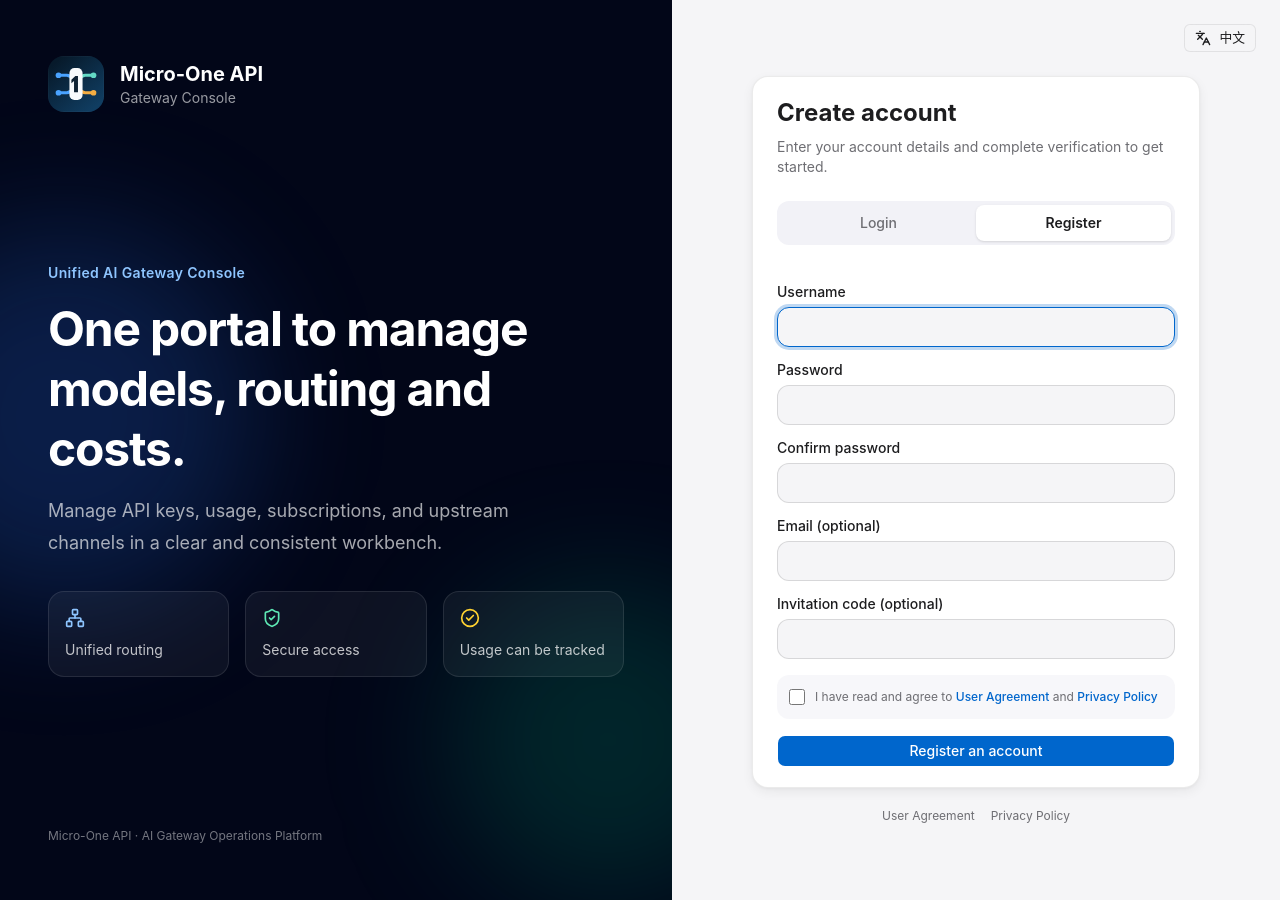
LoginPage › translates the registration legal consent and validation in English
Expected: the checkbox labelled "I have read and agree to User Agreement and Privacy Policy" is not checked, [789, 689, 805, 705]
Expected: the number of links "User Agreement" is 2, [956, 689, 1049, 704]; [882, 808, 975, 824]
In the field labelled "Username": [976, 327] box [777, 307, 1175, 347], type "alice"
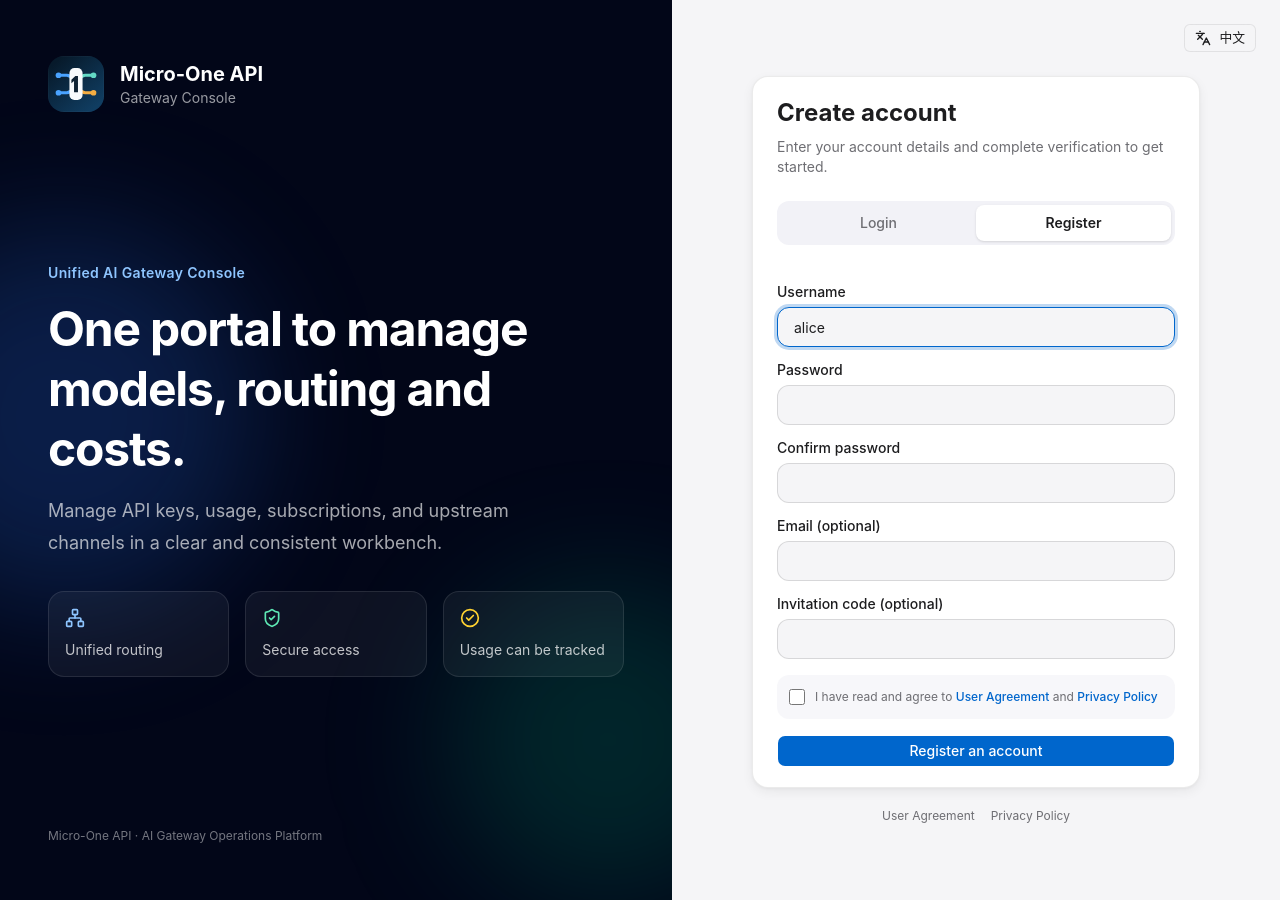
In the password field labelled "Password": [976, 405] box [777, 385, 1175, 425], type "password-1"
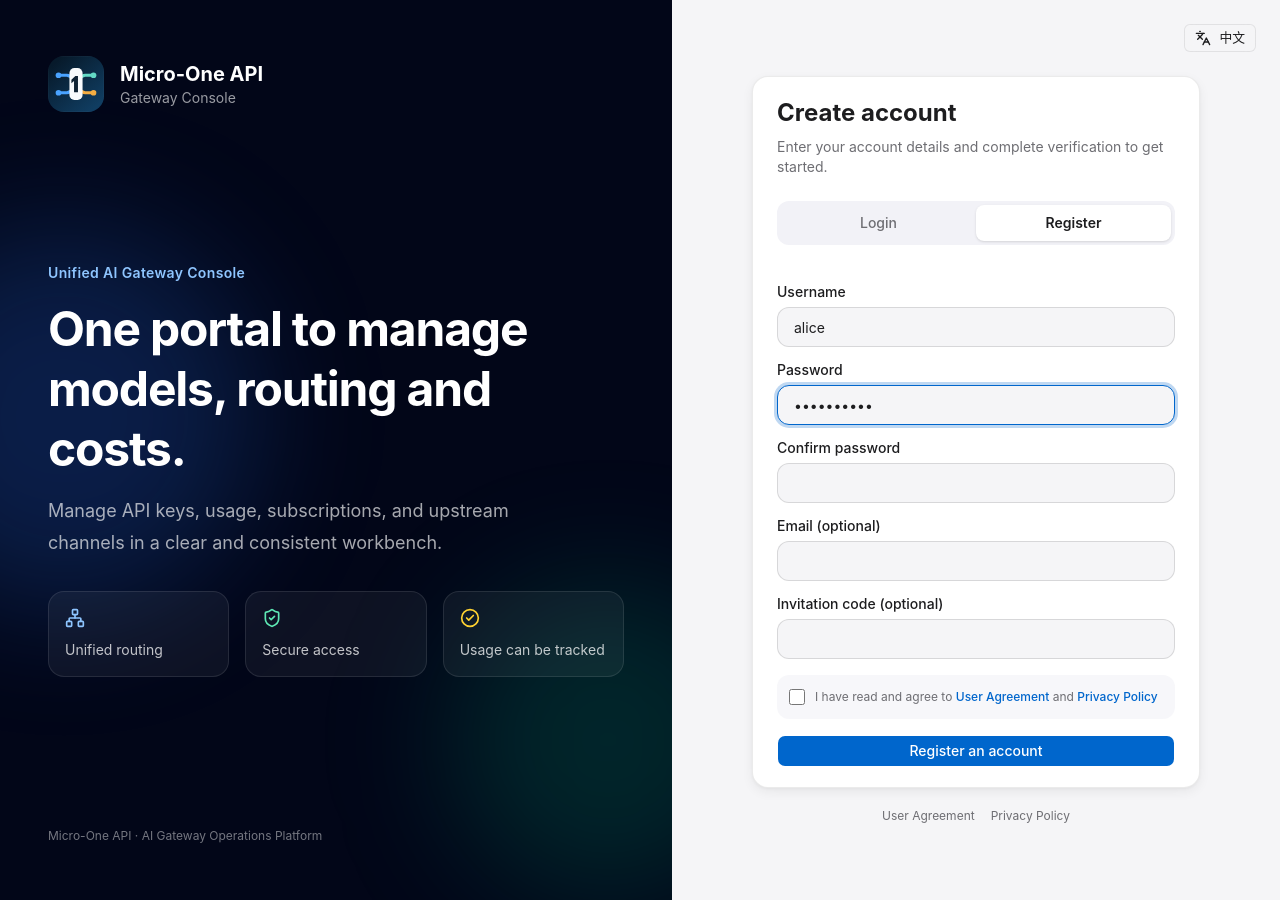
In the password field labelled "Confirm password": [976, 483] box [777, 463, 1175, 503], type "password-1"
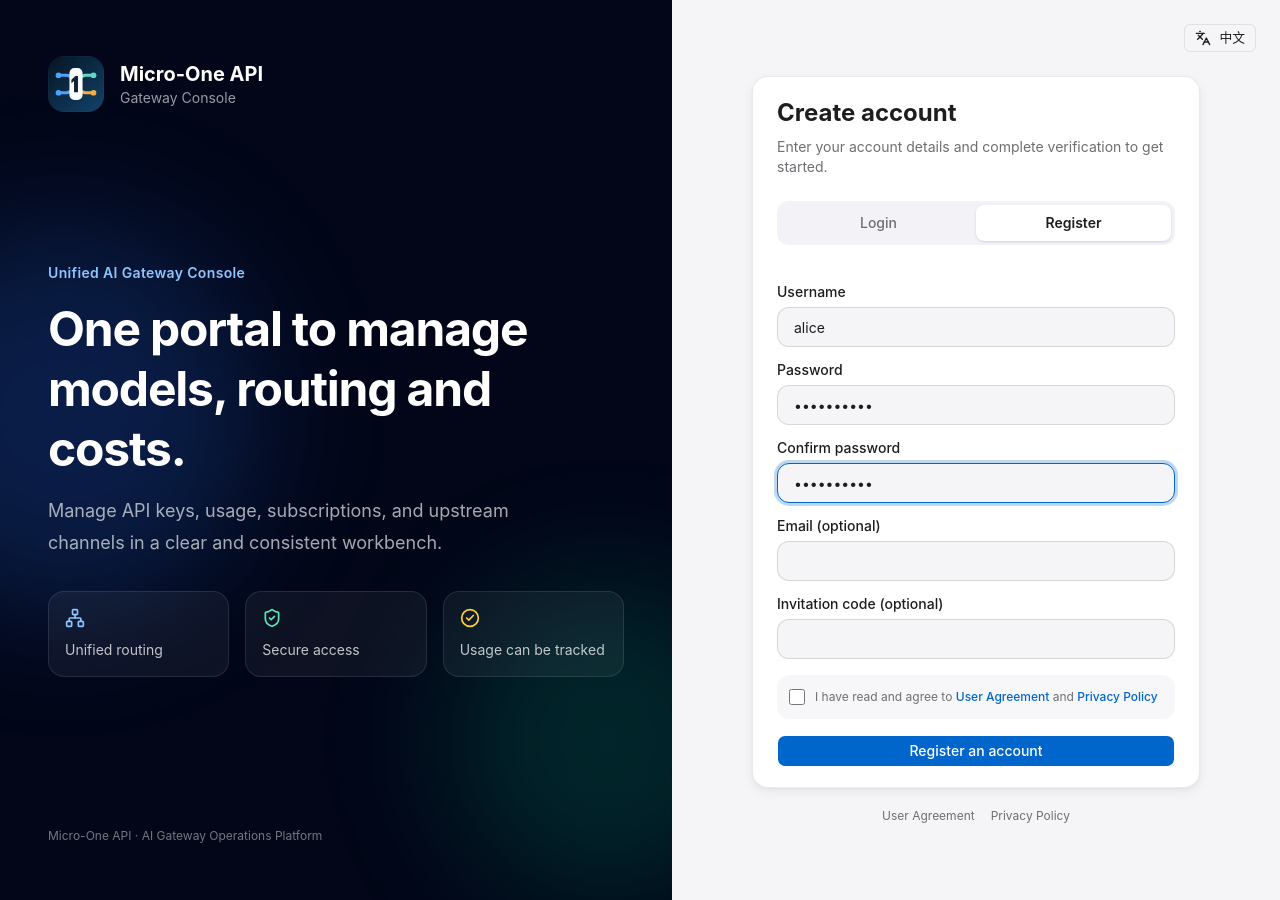
Click the button "Register an account": [976, 751] box [777, 735, 1175, 767]
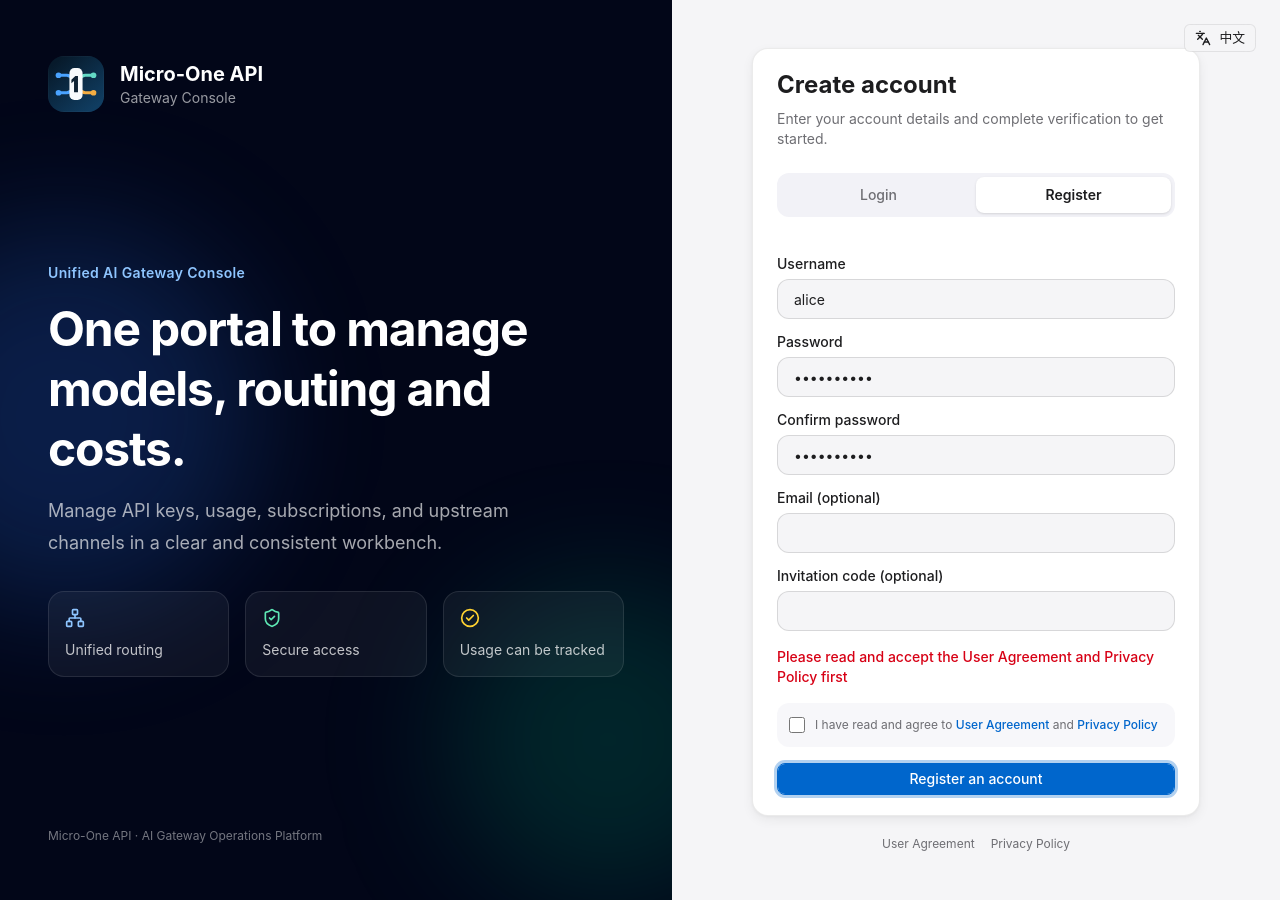
Expected: the message reads "Please read and accept the User Agreement and Privacy Policy first", [777, 648, 1154, 685]
